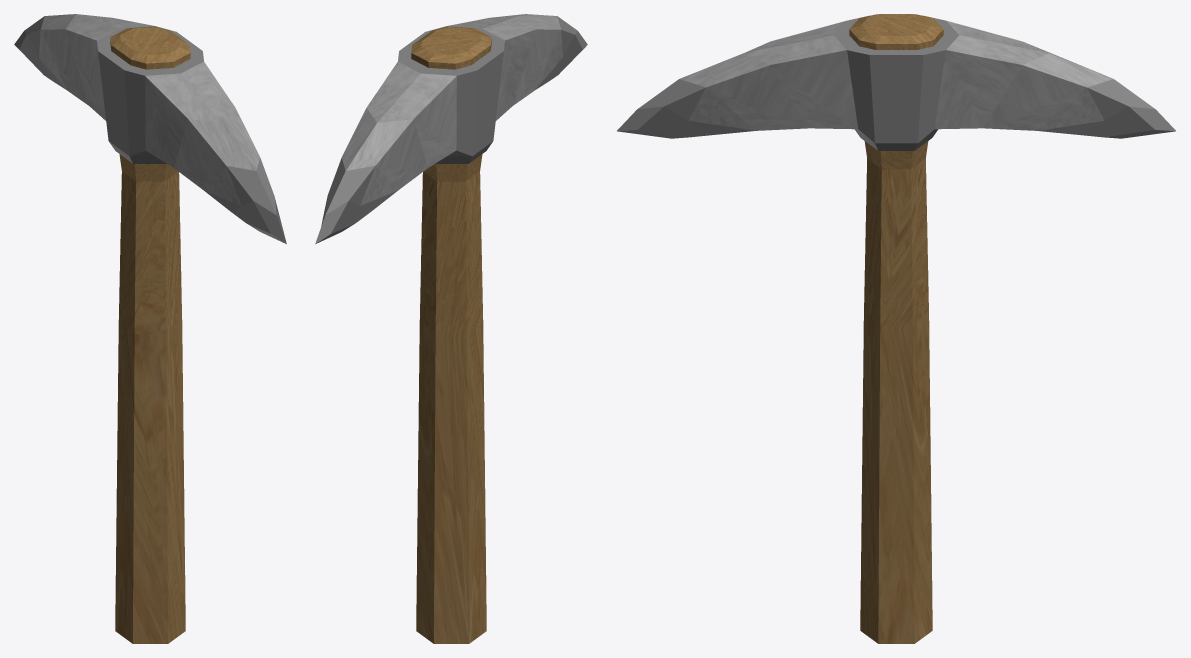
File: item_pickaxe_stone.fbx
The picture shows the model from 3 angles, left to right: view 1: azimuth 30°, elevation 25°; view 2: azimuth 150°, elevation 25°; view 3: azimuth 270°, elevation 25°; orthographic projection. The views are drawn at different scales.
Parts seen in each view (by area): view 1: Hold; view 2: Hold; view 3: Hold.
Boxes of the visible parts, left/top/right/bottom form: Hold: left=14, top=14, right=286, bottom=643; Hold: left=315, top=14, right=587, bottom=643; Hold: left=617, top=14, right=1175, bottom=643.
Size of the model in its own units: 206 by 1475 by 1237.
Materials: 3 (2 with a texture image).
